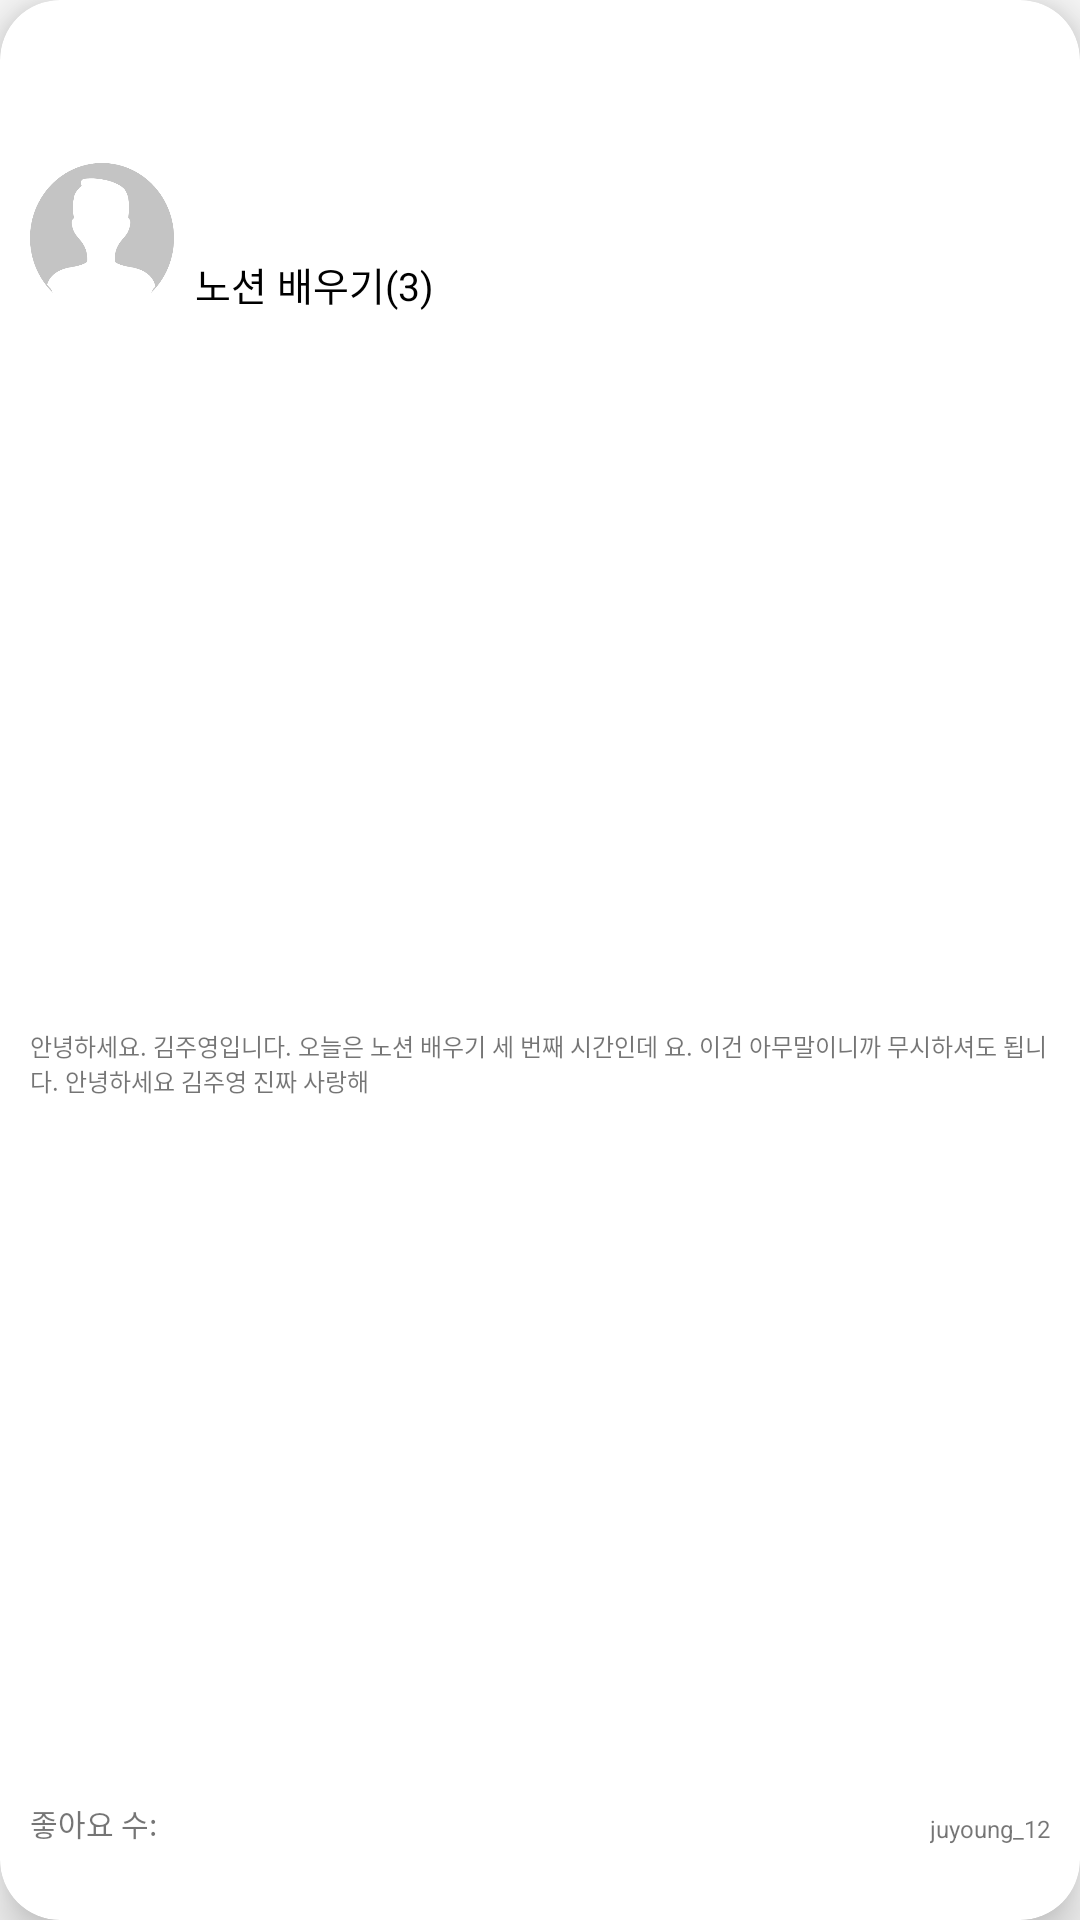

Icons on this 1080 × 1920 Android screen, each with its box as bbox=(x1, y1, x2, y2):
profile base: bbox=(30, 163, 174, 291)
